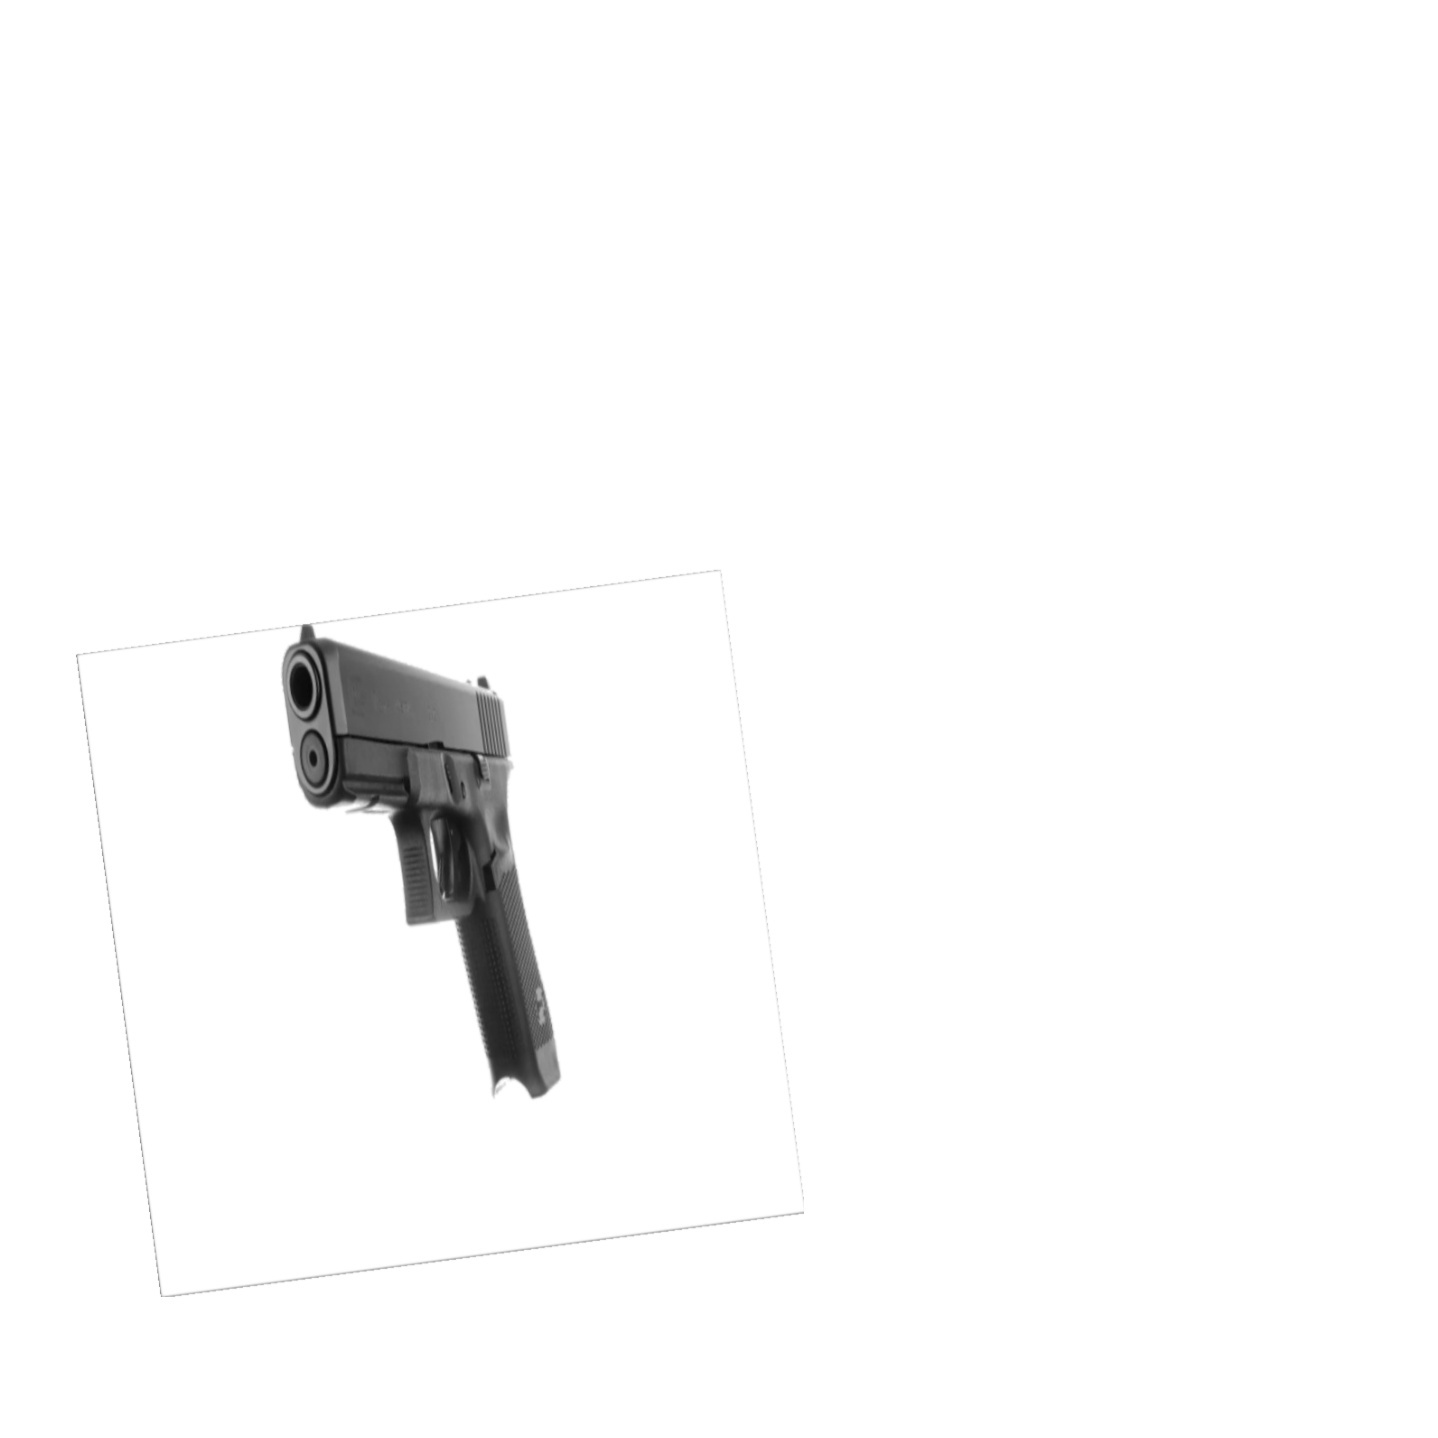gun: (283, 623, 561, 1096)
